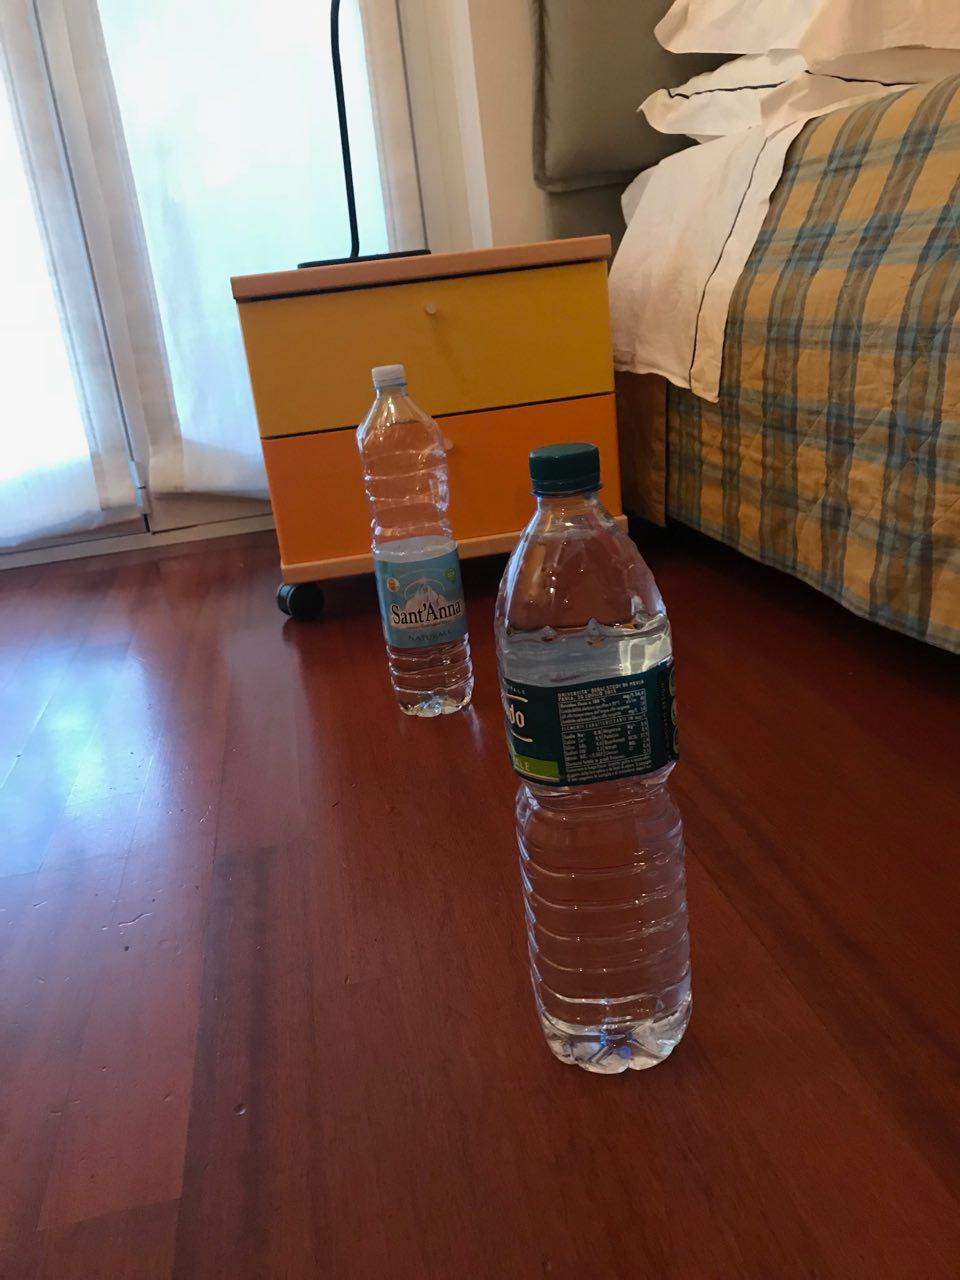san_bernardo: (490, 440, 692, 1079)
